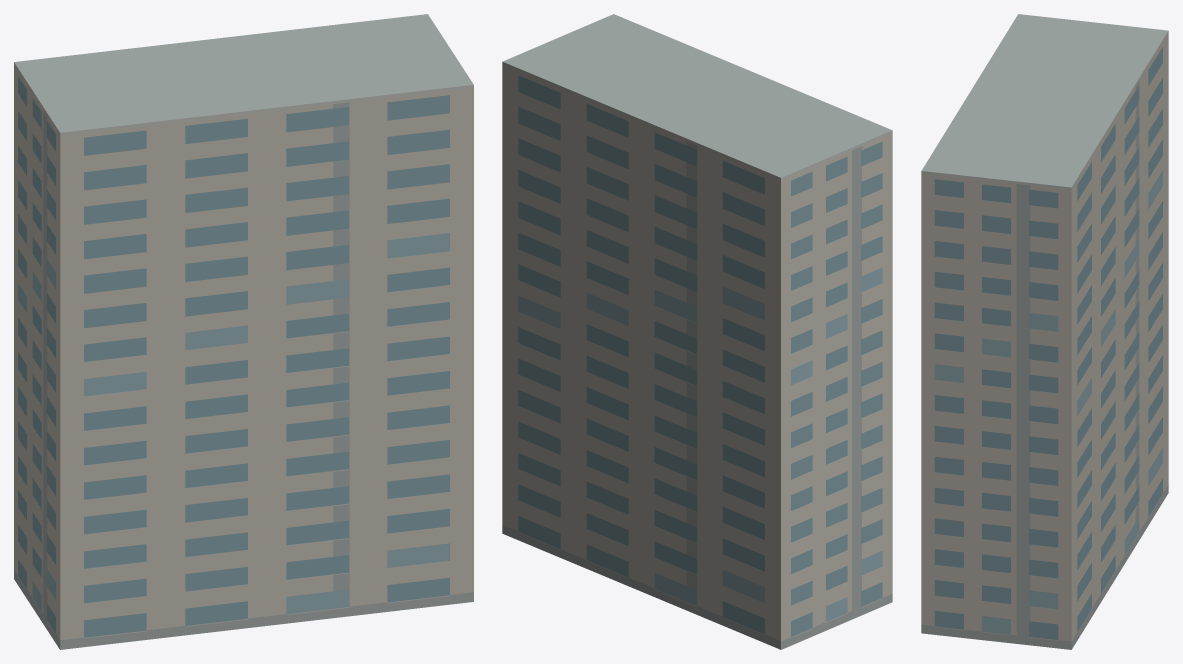
Rendered from residential-660ba538-1f30-45f3-938b-b759f52324fd.glb.
3 renders of one model, left to right at view 1: azimuth 30°, elevation 25°; view 2: azimuth 150°, elevation 25°; view 3: azimuth 270°, elevation 25°, orthographic. The views are drawn at different scales.
Visible parts, largest first — view 1: residential-660ba538-1f30-45f3-938b-b759f52324fd.tmp; view 2: residential-660ba538-1f30-45f3-938b-b759f52324fd.tmp; view 3: residential-660ba538-1f30-45f3-938b-b759f52324fd.tmp.
Boxes of the visible parts, x1,y1,x2,y2 form: residential-660ba538-1f30-45f3-938b-b759f52324fd.tmp: (14, 14, 473, 649); residential-660ba538-1f30-45f3-938b-b759f52324fd.tmp: (502, 14, 892, 649); residential-660ba538-1f30-45f3-938b-b759f52324fd.tmp: (921, 14, 1168, 649).
Bounding box in the file's own units: 33 × 41 × 19.87.
